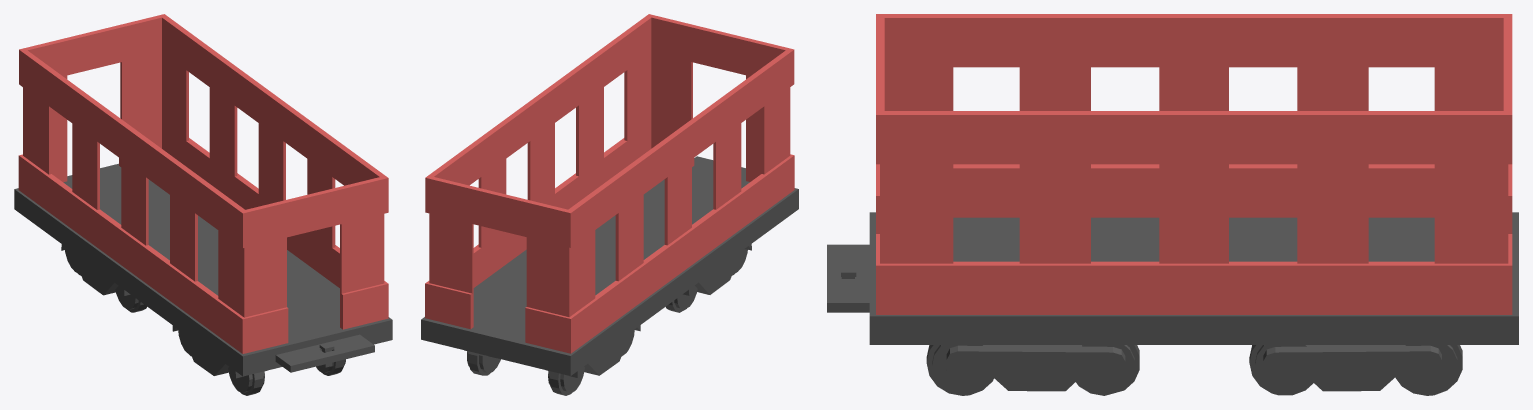
Rendered from Wagon_North.fbx.
The picture shows the model from 3 angles, left to right: view 1: azimuth 30°, elevation 25°; view 2: azimuth 150°, elevation 25°; view 3: azimuth 270°, elevation 25°; orthographic projection. The views are drawn at different scales.
Visible parts, largest first — view 1: Wagon_North; view 2: Wagon_North; view 3: Wagon_North.
Boxes of the visible parts, x1=… form: Wagon_North: x1=14, y1=14, x2=392, y2=395; Wagon_North: x1=421, y1=14, x2=798, y2=395; Wagon_North: x1=827, y1=14, x2=1518, y2=395.
Bounding box in the file's own units: 338 × 453 × 950.
